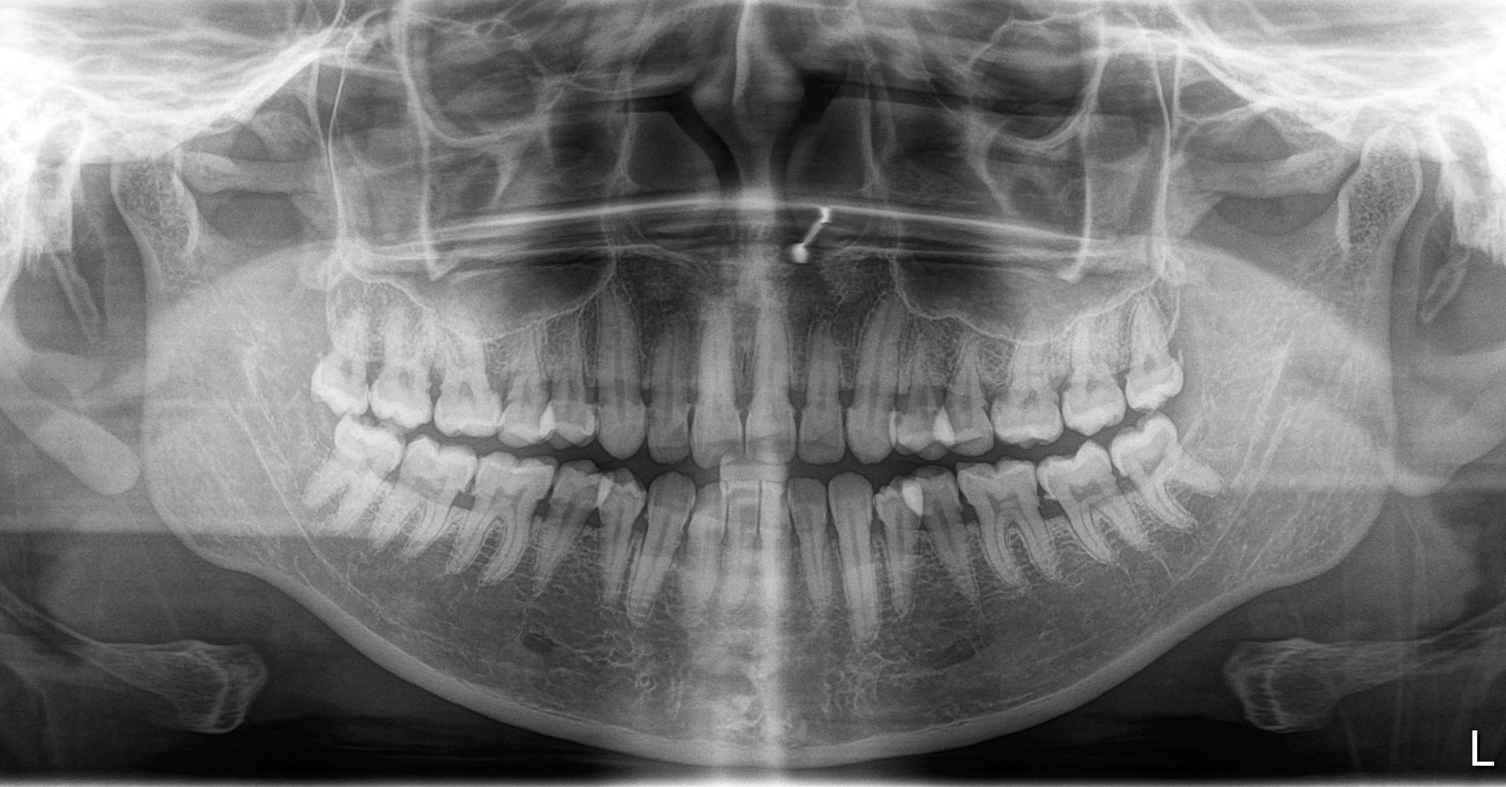Periodontal Pocket: (890, 305, 943, 455), (1002, 310, 1058, 444), (805, 316, 854, 463), (1055, 314, 1117, 428), (592, 316, 643, 452), (752, 312, 798, 461), (702, 310, 743, 459), (853, 314, 892, 465), (653, 312, 693, 458), (952, 312, 995, 446), (434, 329, 490, 431), (1131, 298, 1182, 409), (548, 325, 592, 446), (379, 327, 423, 430), (509, 329, 543, 440)
